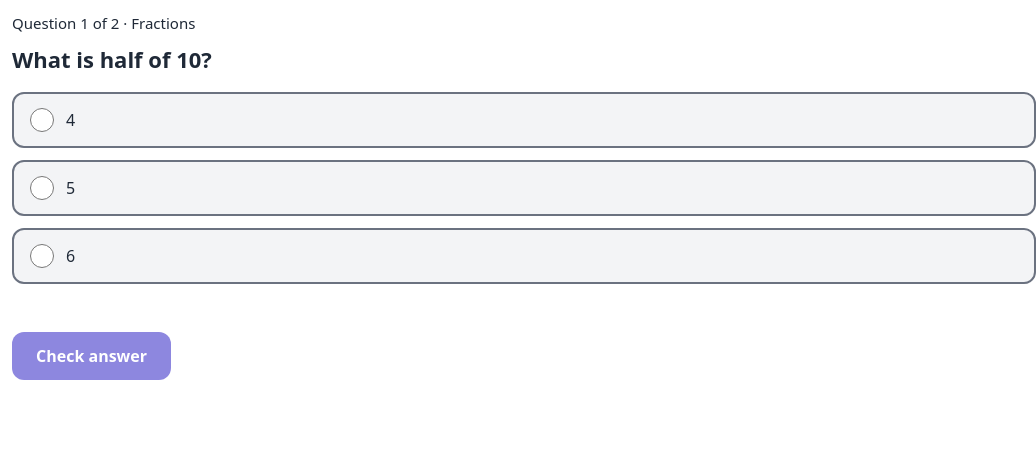
Test case: Quiz › praises a correct answer and shows the explanation
Click the radio button labelled "5" at [42, 188], box [30, 176, 54, 200]
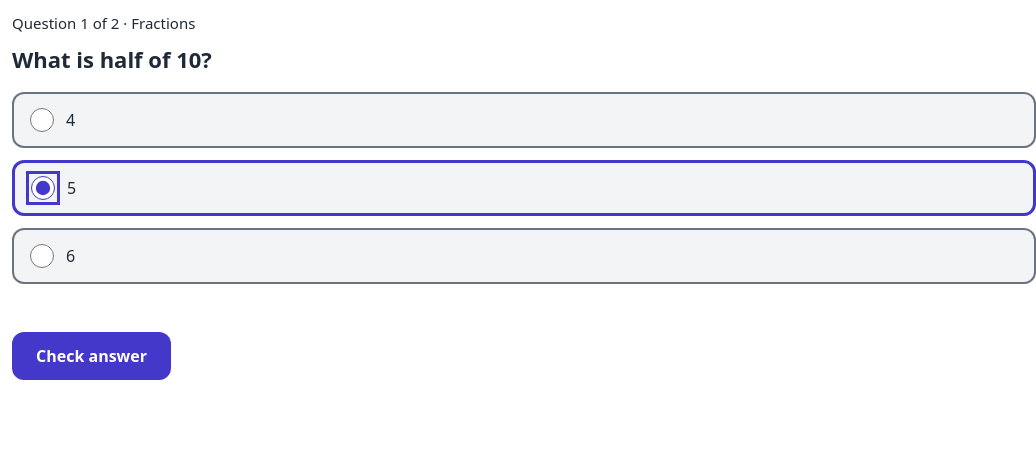
Click the button "Check answer" at [92, 356], box [12, 332, 171, 380]
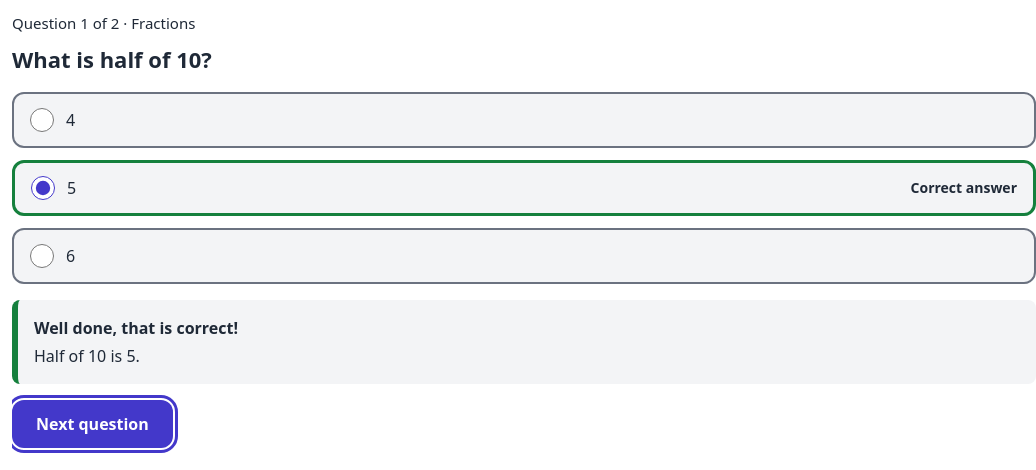
Expected: the message shows "Well done", [34, 316, 238, 338]
Expected: the message shows "Half of 10 is 5.", [34, 344, 140, 366]
